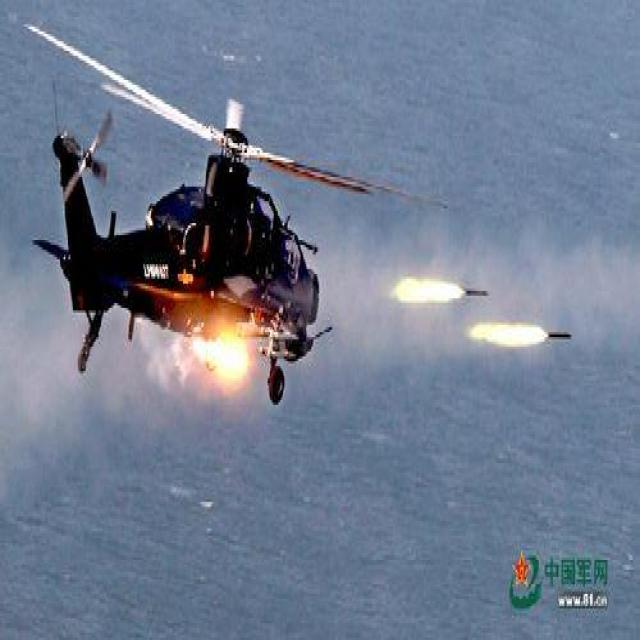MIL_HELO: (28, 12, 450, 434)
